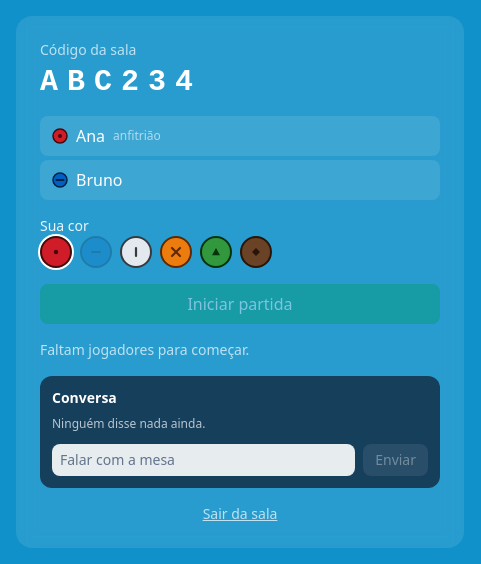
Test: Chat › mostra a recusa do servidor como alerta
(page scrolled)
Expected: the element with test id "chat" is shown, [40, 376, 440, 488]
In the field with test id "chat-campo": coordinates (204, 460) [52, 444, 355, 476], type "muito rápido"
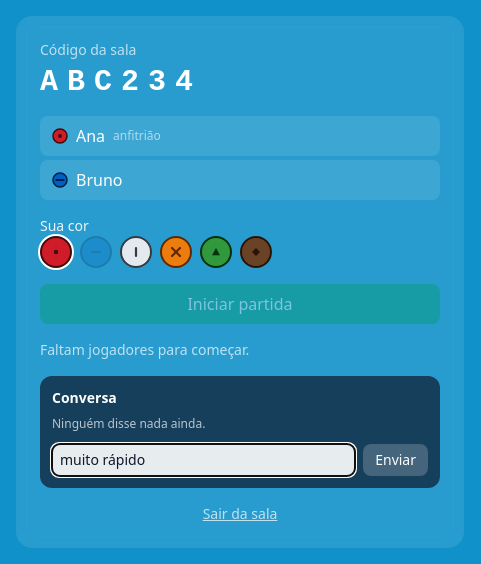
Click the button with test id "chat-enviar": coordinates (396, 460) [363, 444, 428, 476]
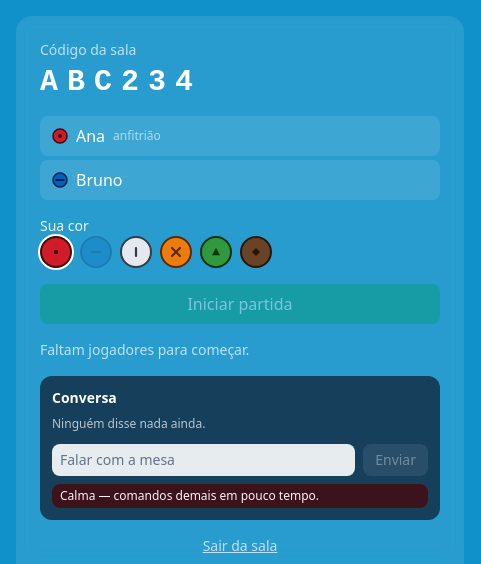
Now the message shows "Calma", box [60, 487, 319, 504]
